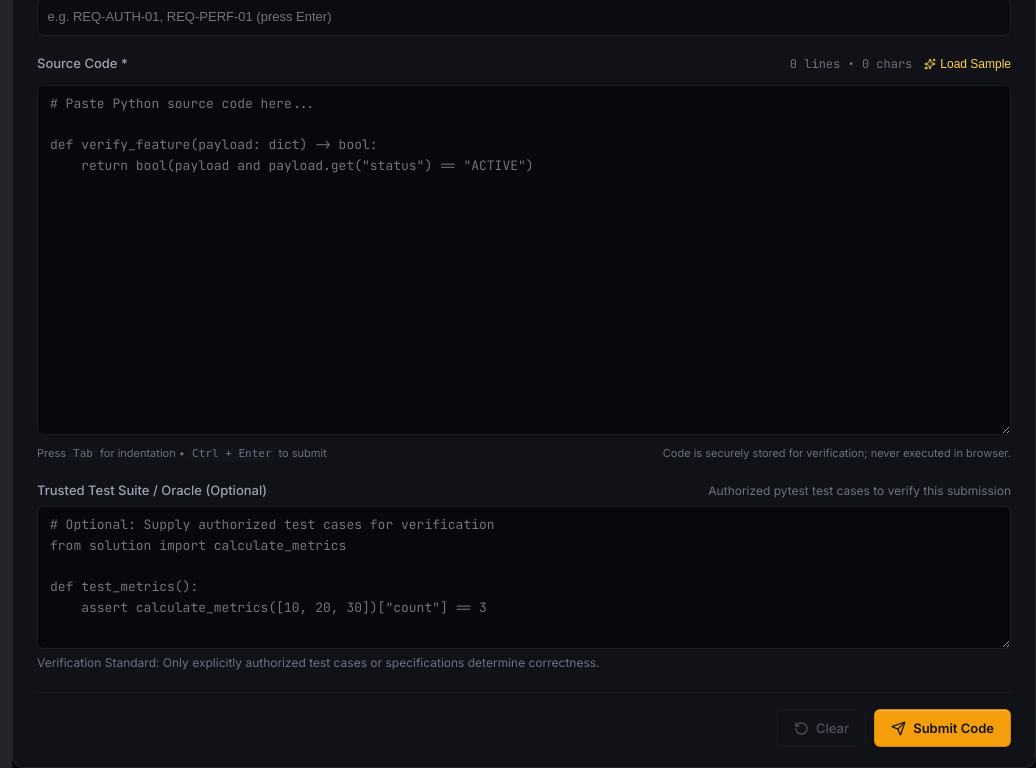
Test case: Frontend Pages Requirements › renders ManualSubmissionPage with language selection and prevents empty submission
(page scrolled)
Expected: the text box labelled "Source Code *" is shown, [37,85,1011,436]
What coordinates should you click on to do the following:
click the button "Submit Code"
I would click on:
 (942, 728)
Its box is [874,709,1011,747].
(page scrolled)
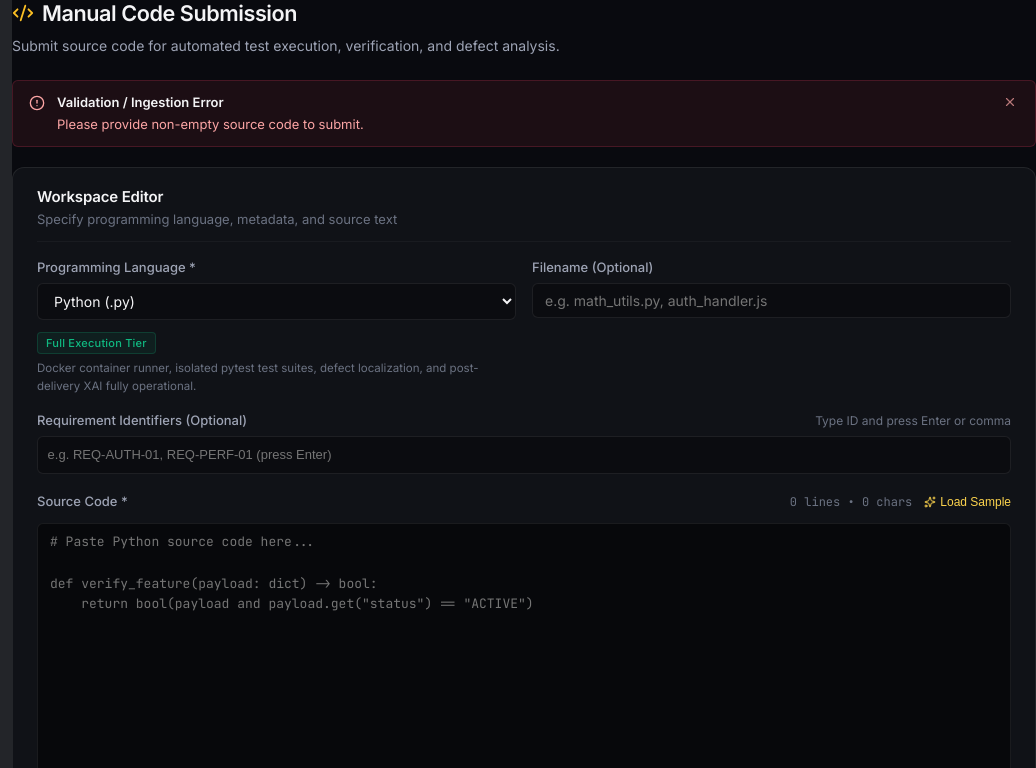
Result: the text "Please provide non-empty source code to submit." is shown at [57,116,364,132]
